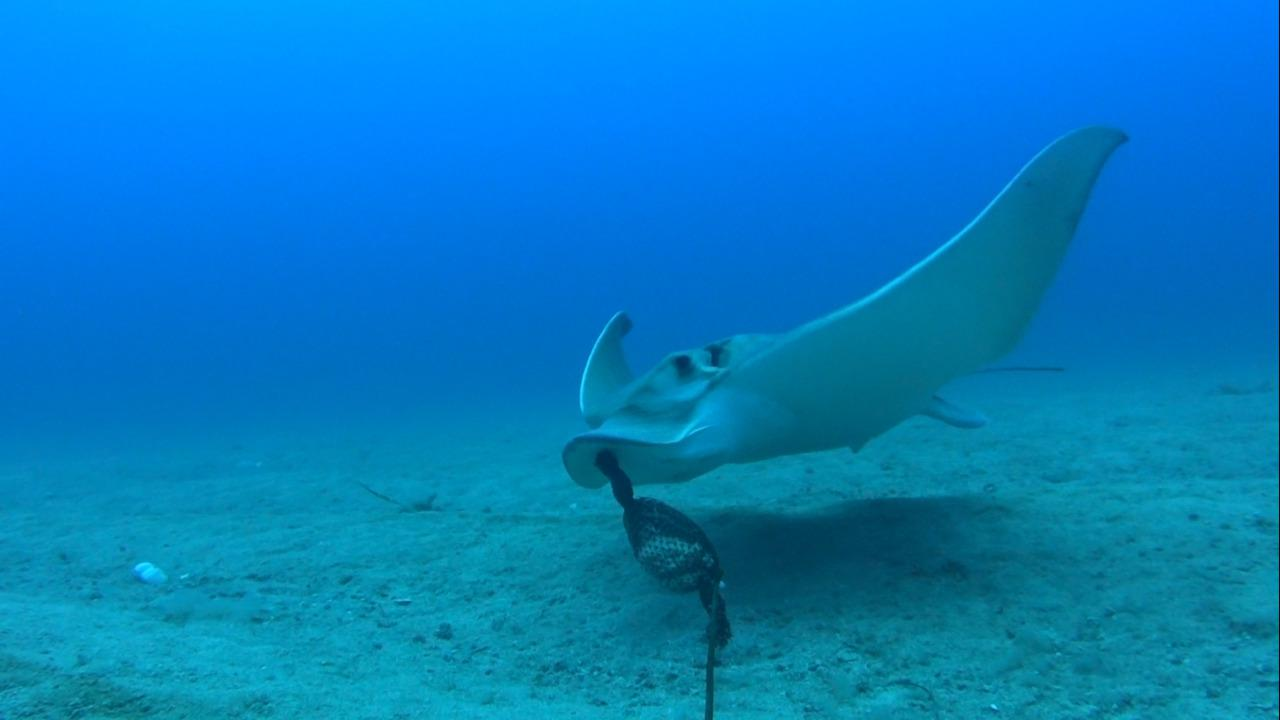myliobatis: (555, 119, 1135, 490)
